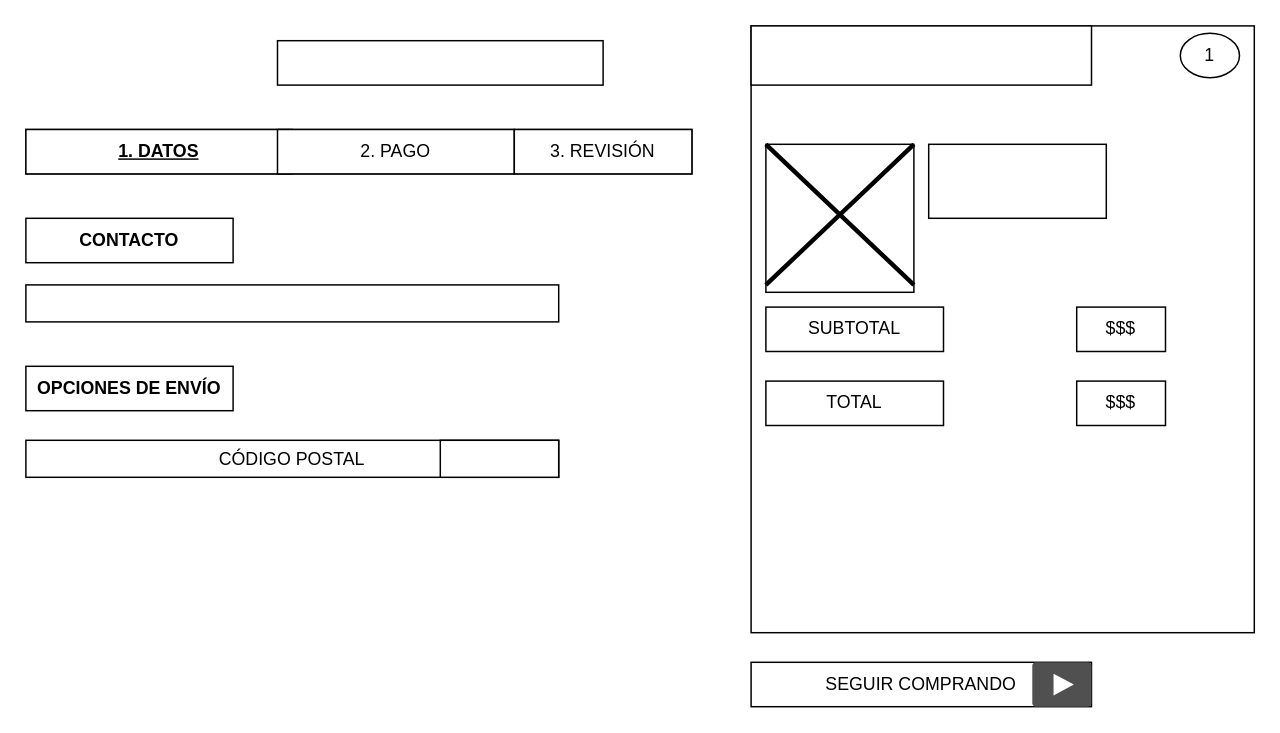
This 1280x733 diagram has some shape labels left out. Each missing label, with the centre of its shape:
BUSCAR: pixel 499 458
DESCRIPCIÓN DEL PRODUCTO: pixel 1016 180
EMAIL: pixel 291 302
MI COMPRA: pixel 921 54
NOMBRE DE TIENDA: pixel 439 62
